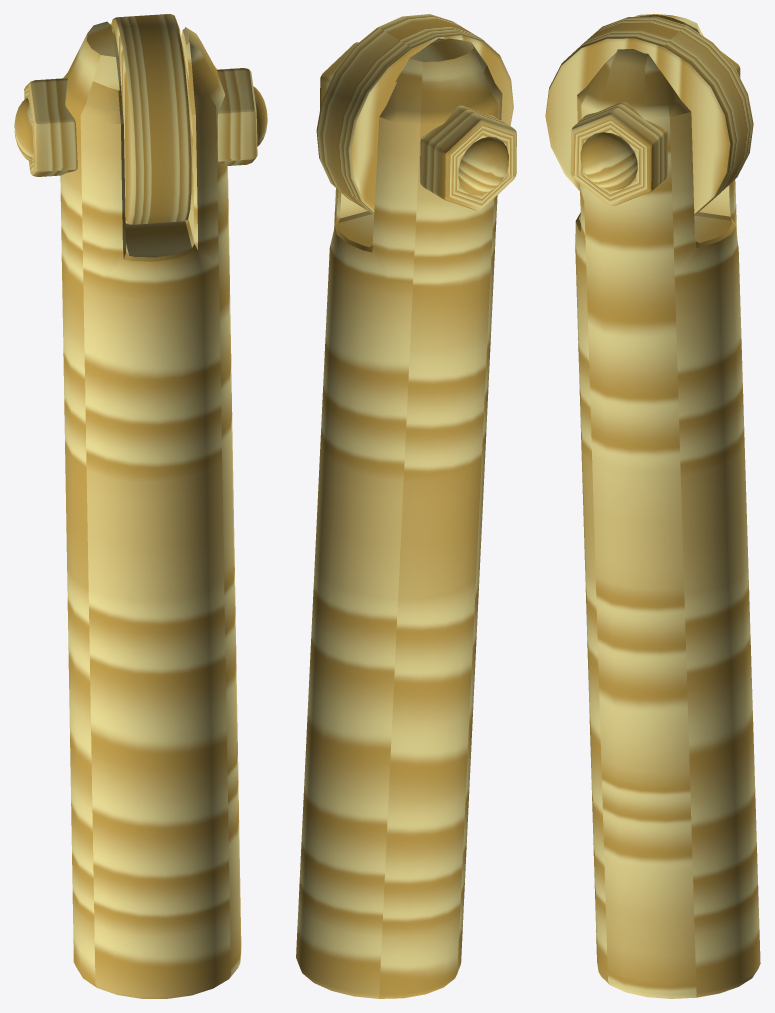
The model's file is right arm.obj.
3 views of the same model, side by side, from view 1: azimuth 30°, elevation 25°; view 2: azimuth 150°, elevation 25°; view 3: azimuth 270°, elevation 25° (orthographic). The views are drawn at different scales.
Parts seen in each view (by area): view 1: Blake_right_hand_right_forearm_right_forearm, Blake_right_hand_right_forearm_right_elbow, Blake_right_hand_right_forearm_right_elbow_bolt_1_bolts, Blake_right_hand_right_forearm_bolts_right_elbow_bolt_2, Blake_right_hand_right_forearm_bolts_right_elbow_bolt_1_part; view 2: Blake_right_hand_right_forearm_right_forearm, Blake_right_hand_right_forearm_right_elbow, Blake_right_hand_right_forearm_right_elbow_bolt_1_bolts, Blake_right_hand_right_forearm_bolts_right_elbow_bolt_1_part; view 3: Blake_right_hand_right_forearm_right_forearm, Blake_right_hand_right_forearm_right_elbow, Blake_right_hand_right_forearm_bolts_right_elbow_bolt_2, Blake_right_hand_right_forearm_bolts_right_elbow_bolt_2_part.
Part boxes in pixels (<box>): Blake_right_hand_right_forearm_right_forearm: <box>60,21,241,998</box>; Blake_right_hand_right_forearm_right_elbow: <box>111,14,192,224</box>; Blake_right_hand_right_forearm_right_elbow_bolt_1_bolts: <box>24,78,77,176</box>; Blake_right_hand_right_forearm_bolts_right_elbow_bolt_2: <box>217,68,257,165</box>; Blake_right_hand_right_forearm_bolts_right_elbow_bolt_1_part: <box>14,98,32,161</box>; Blake_right_hand_right_forearm_right_forearm: <box>296,38,502,998</box>; Blake_right_hand_right_forearm_right_elbow: <box>316,14,513,214</box>; Blake_right_hand_right_forearm_right_elbow_bolt_1_bolts: <box>420,105,516,210</box>; Blake_right_hand_right_forearm_bolts_right_elbow_bolt_1_part: <box>458,136,508,195</box>; Blake_right_hand_right_forearm_right_forearm: <box>575,14,760,998</box>; Blake_right_hand_right_forearm_right_elbow: <box>545,16,753,214</box>; Blake_right_hand_right_forearm_bolts_right_elbow_bolt_2: <box>570,101,667,206</box>; Blake_right_hand_right_forearm_bolts_right_elbow_bolt_2_part: <box>580,132,637,190</box>.
Bounding box in the file's own units: 0.4265 × 1.88 × 0.3927.
